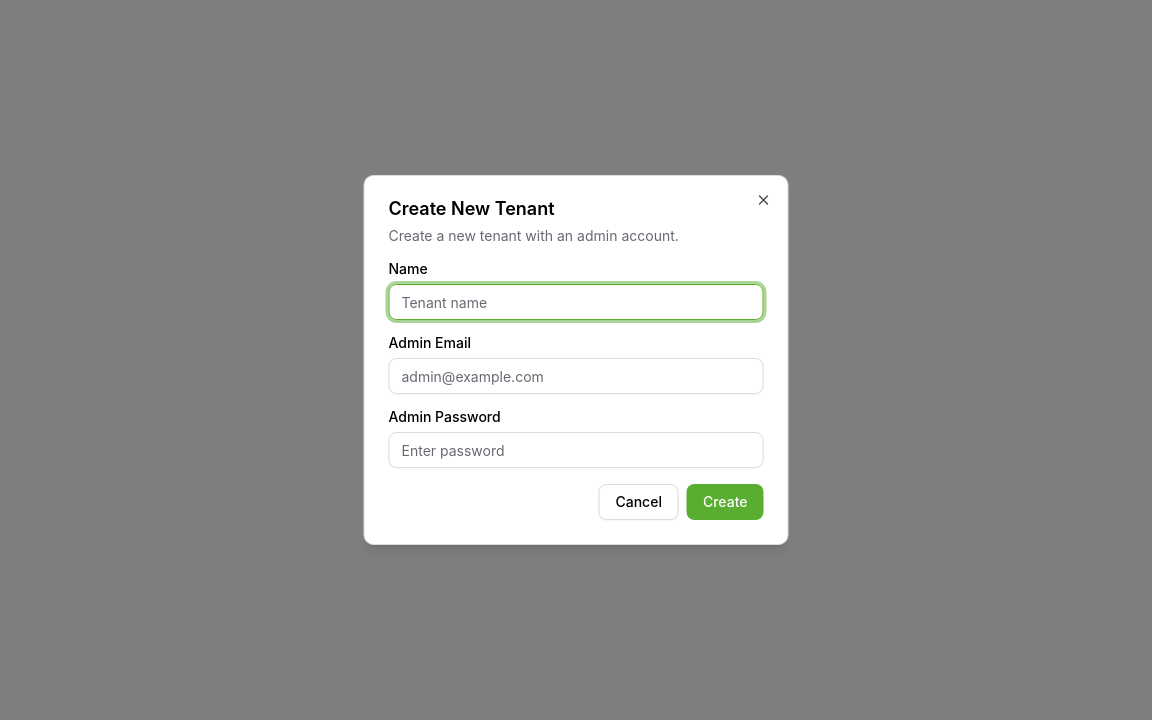
Test: TenantForm › should validate required fields
// Try to submit without entering name
Step 1. Click the button with test id "btn-submit" → click(725, 502), box [687,484,764,520]
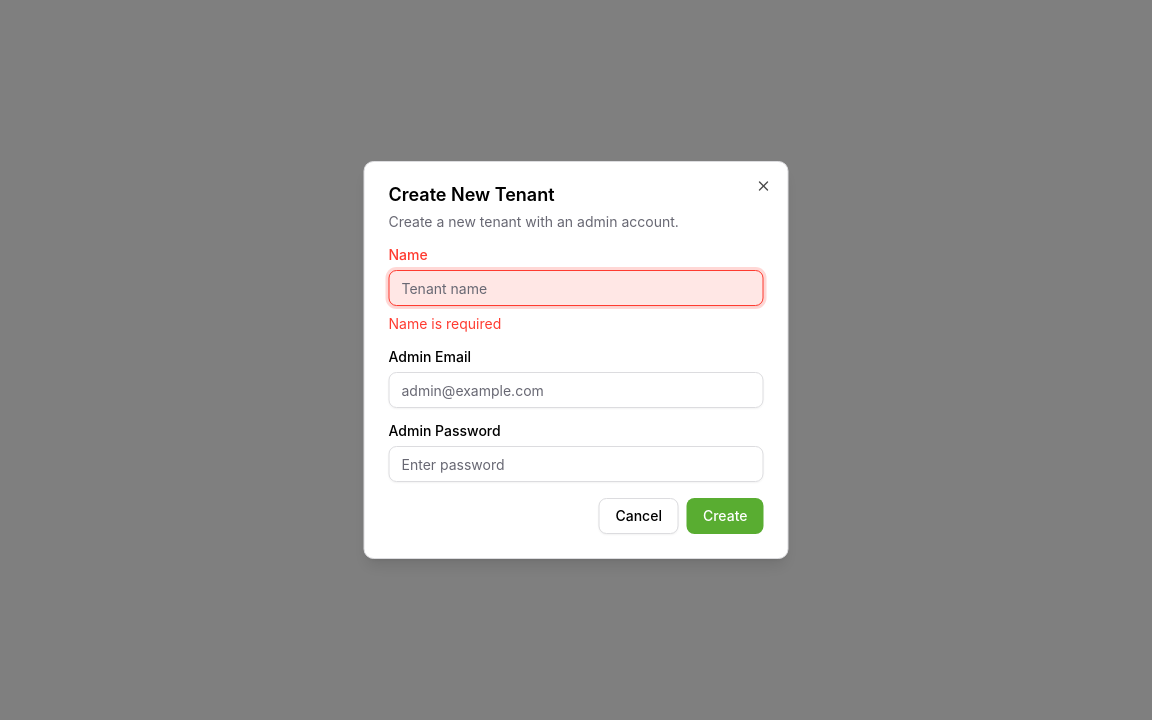
expect the text "Name is required" is shown: met, box [388,315,501,332]
